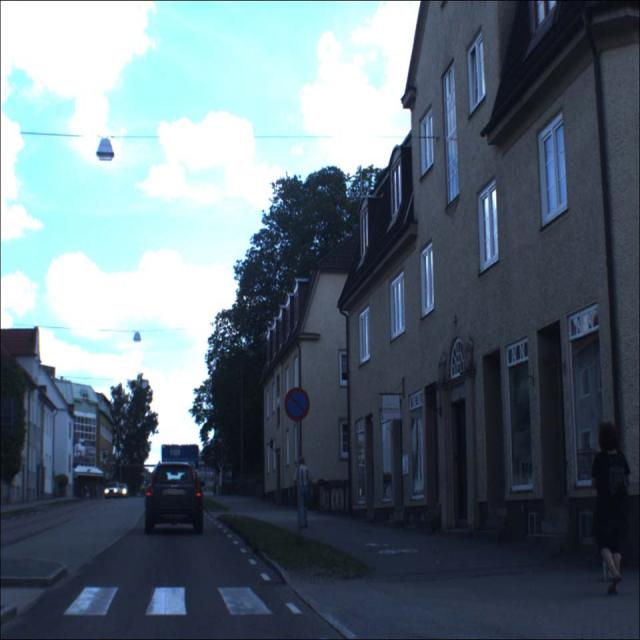parkyasak: (284, 389, 310, 423)
